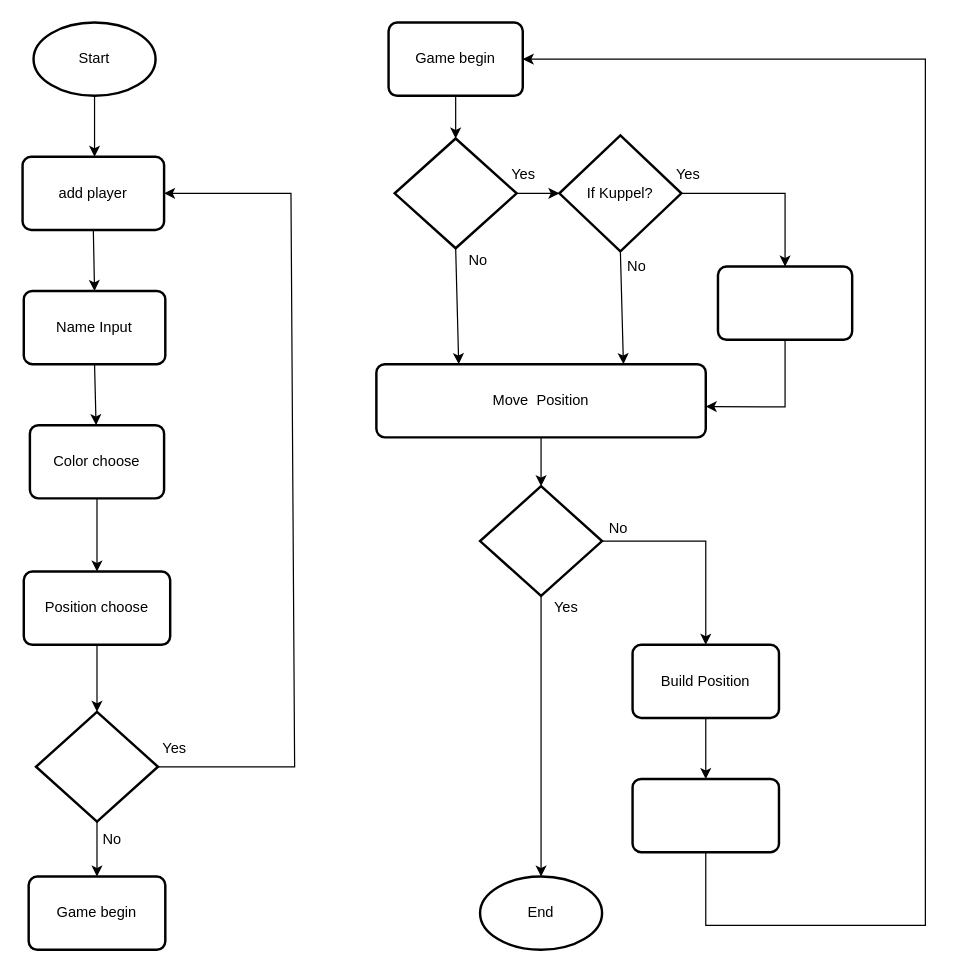
Image size: 956x971. Some labels were removed from this diagram. Here are the shapes that lost their labels. From the top down, the centre of each, then its label:
the point at 455,193: Could Kuppel?
the point at 784,302: Kuppel
the point at 540,540: WIN？
the point at 96,766: more player?
the point at 705,815: Round Switch
